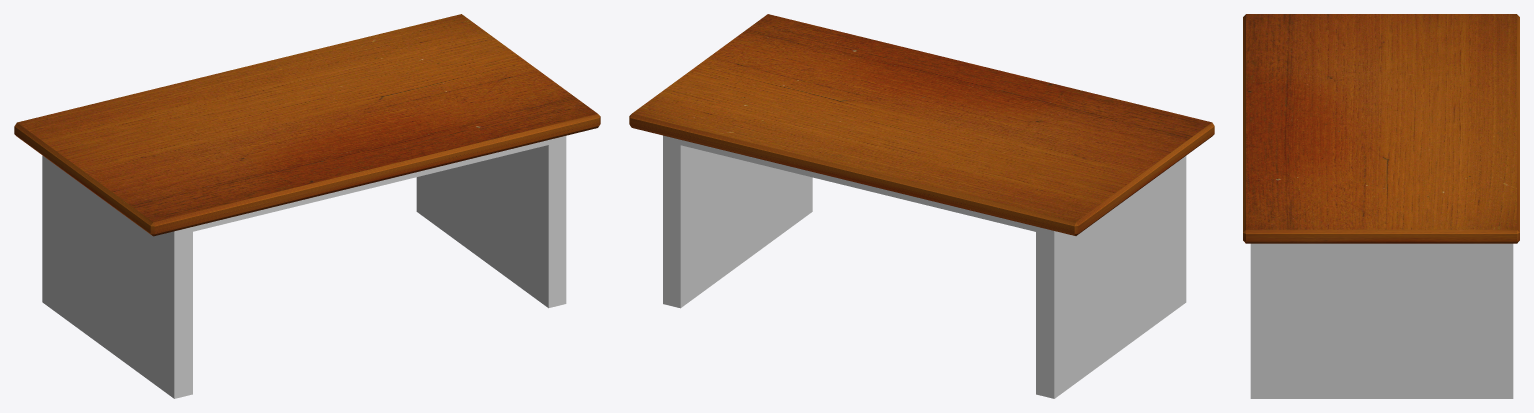
File: Desk.FBX
The picture shows the model from 3 angles, left to right: view 1: azimuth 30°, elevation 25°; view 2: azimuth 150°, elevation 25°; view 3: azimuth 270°, elevation 25°; orthographic projection.
Visible parts, largest first — view 1: Box002, Box001; view 2: Box002, Box001; view 3: Box002, Box001.
Boxes of the visible parts, <box> form: Box002: <box>14,14,600,236</box>; Box001: <box>42,136,566,398</box>; Box002: <box>629,14,1214,235</box>; Box001: <box>663,135,1186,398</box>; Box002: <box>1243,14,1519,243</box>; Box001: <box>1250,243,1513,398</box>.
Size of the model in its own units: 77.11 by 30.26 by 41.35.
